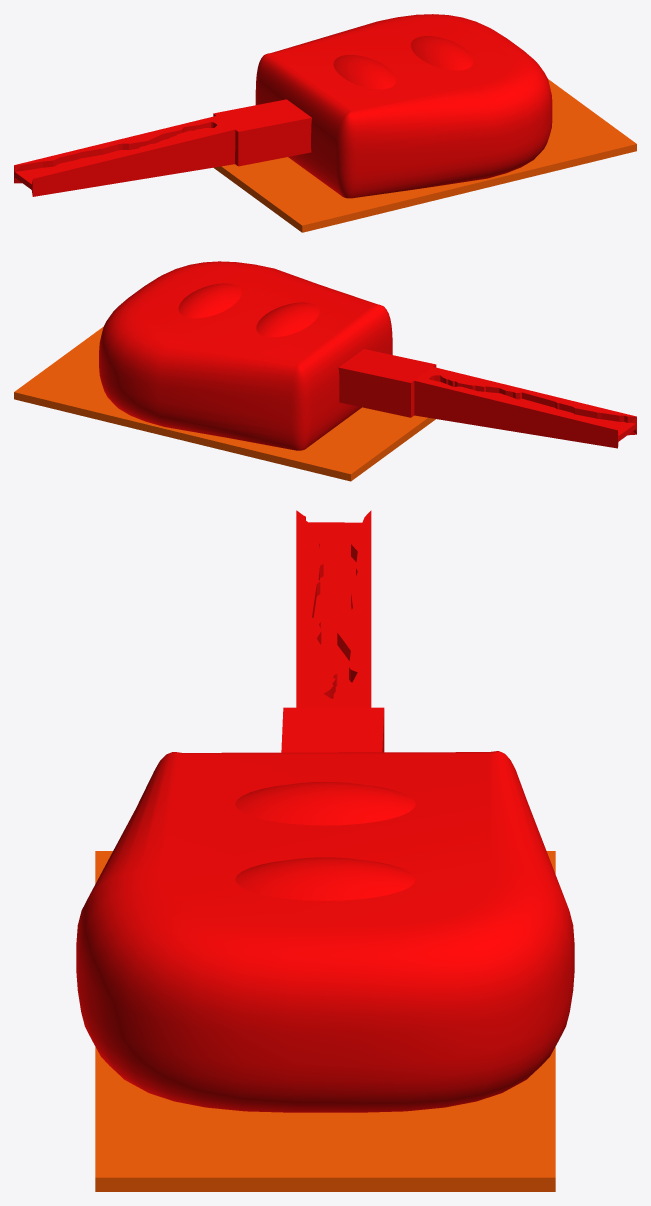
File: CléVoiture.fbx
3 views of the same model, one above another, from view 1: azimuth 30°, elevation 25°; view 2: azimuth 150°, elevation 25°; view 3: azimuth 270°, elevation 25° (orthographic). The views are drawn at different scales.
Parts seen in each view (by area): view 1: Box001, Box005; view 2: Box001, Box005; view 3: Box001, Box005.
Boxes of the visible parts, x1,y1,x2,y2 form: Box001: [14, 14, 552, 198]; Box005: [213, 79, 636, 232]; Box001: [99, 261, 636, 450]; Box005: [14, 327, 435, 481]; Box001: [76, 510, 574, 1112]; Box005: [95, 851, 555, 1191].
Bounding box in the file's own units: 33.75 × 5.59 × 13.14.
